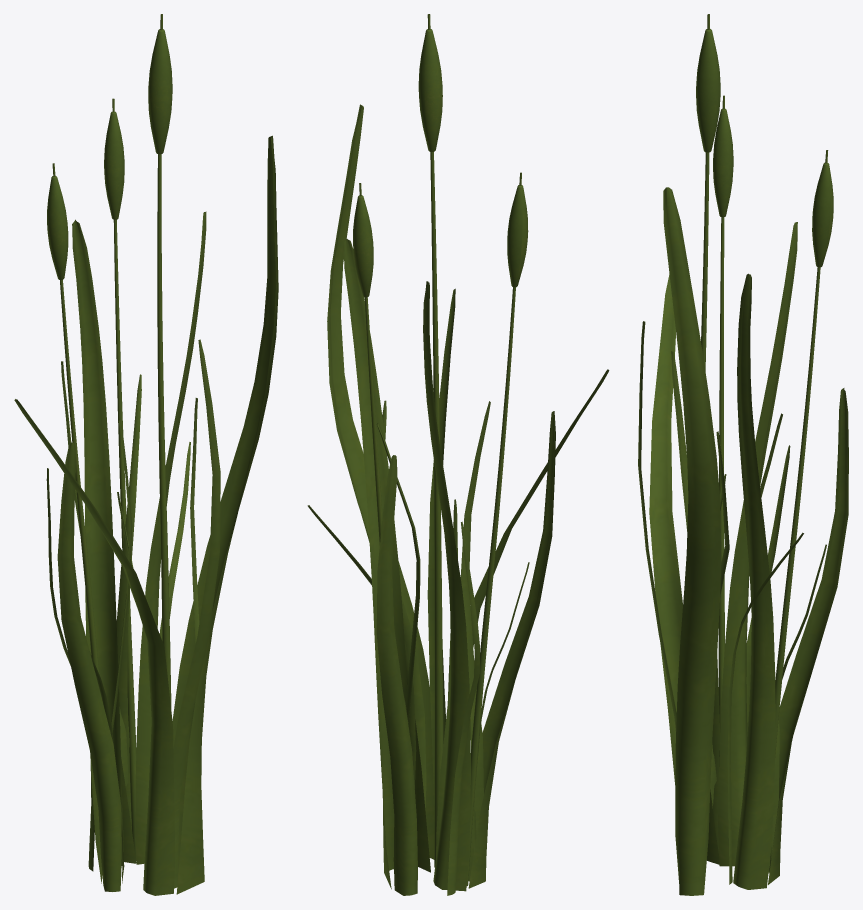
File: plant_03.glb
The picture shows the model from 3 angles, left to right: view 1: azimuth 30°, elevation 25°; view 2: azimuth 150°, elevation 25°; view 3: azimuth 270°, elevation 25°; orthographic projection.
Parts seen in each view (by area): view 1: plant_03; view 2: plant_03; view 3: plant_03.
Boxes of the visible parts, x1,y1,x2,y2 form: plant_03: (14, 14, 278, 895); plant_03: (307, 14, 609, 895); plant_03: (638, 14, 848, 895).
Bounding box in the file's own units: 5.76 × 17.69 × 3.87.
1 material, 1 textured.
